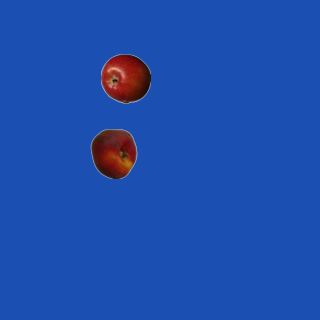Apple Braeburn: (100, 53, 150, 103)
Nectarine Flat: (88, 128, 138, 178)
